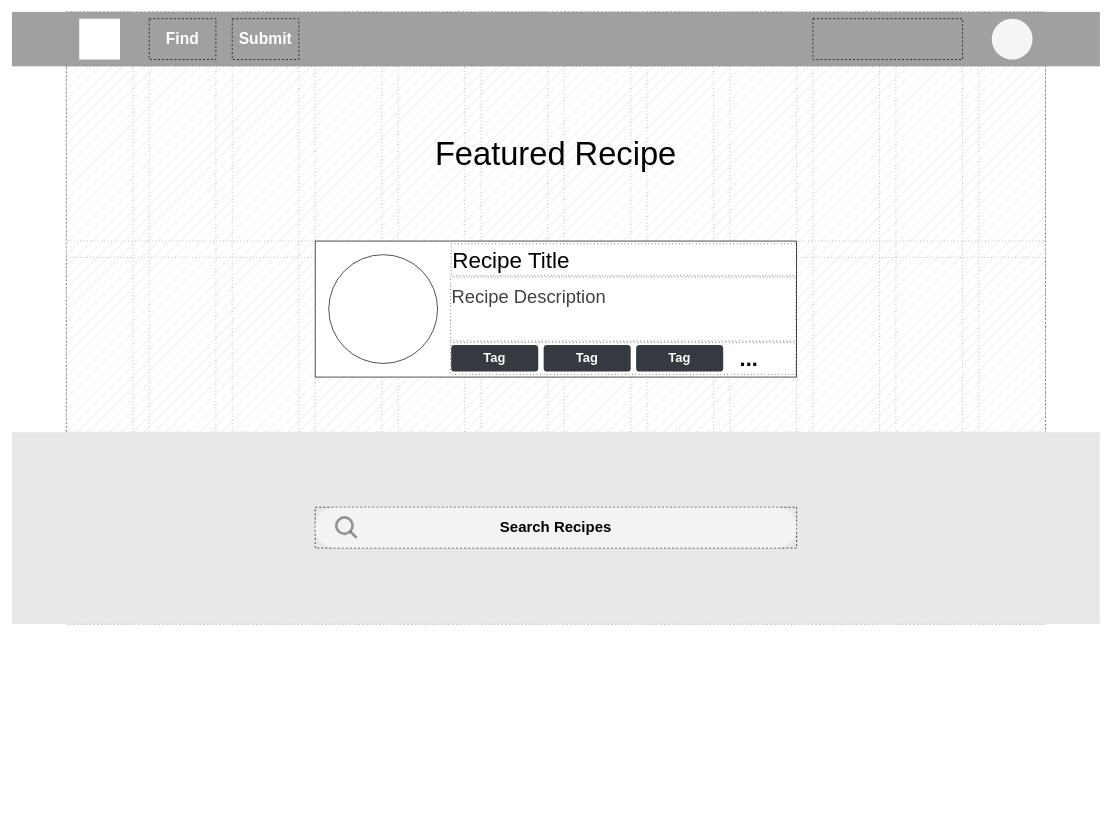
The diagram is 1111 pixels wide and 828 high, and some of its shapes have lost their labels. The shapes that lost their labels are listed below. From the top down, each one's centre as x and y in pixels, then its label:
At point 99,38: "Icon".
At point 887,39: "Welcome, Username".
At point 1011,38: "User Icon".
At point 383,308: "Recipe Image".
